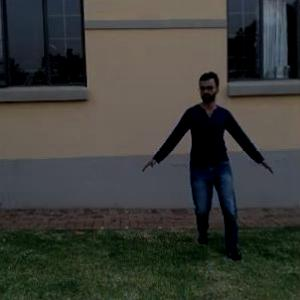land: (152, 73, 275, 235)
